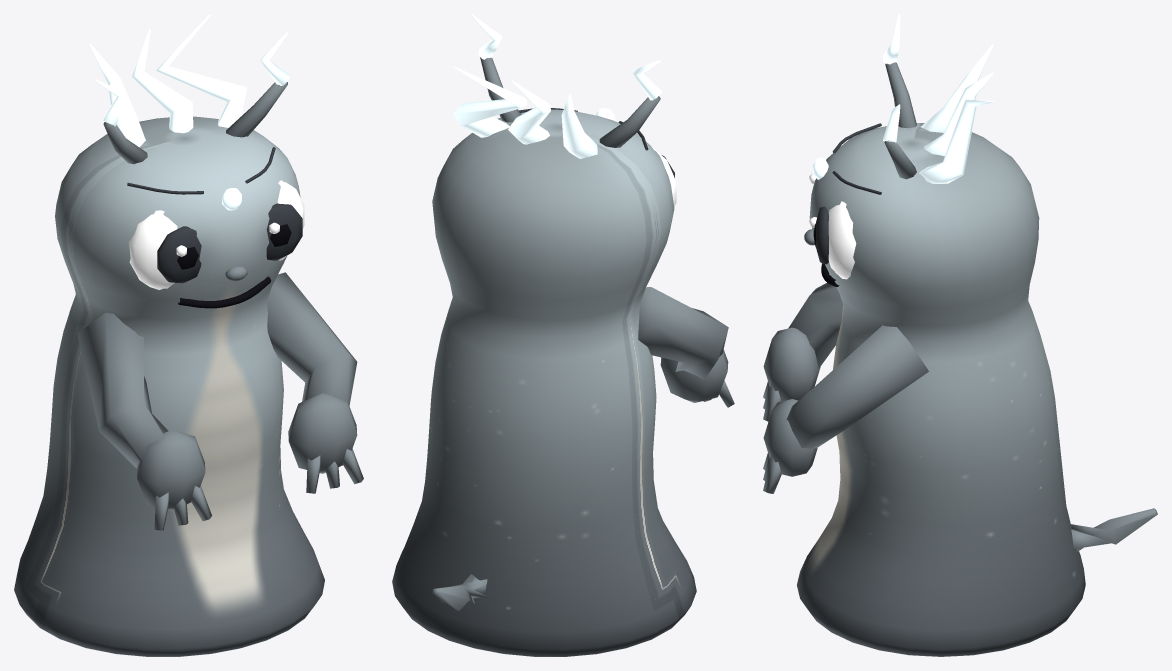
File: tifon_pixar.glb
3 renders of one model, left to right at view 1: azimuth 30°, elevation 25°; view 2: azimuth 150°, elevation 25°; view 3: azimuth 270°, elevation 25°, orthographic. The views are drawn at different scales.
Visible parts, largest first — view 1: tifon_cuerpo; view 2: tifon_cuerpo; view 3: tifon_cuerpo.
Part boxes in pixels (bbox=[...]): tifon_cuerpo: bbox=[14, 14, 363, 656]; tifon_cuerpo: bbox=[392, 14, 734, 656]; tifon_cuerpo: bbox=[763, 14, 1157, 656].
Size of the model in its own units: 0.2973 by 0.58 by 0.3868.
Materials: 5 (1 with a texture image).
